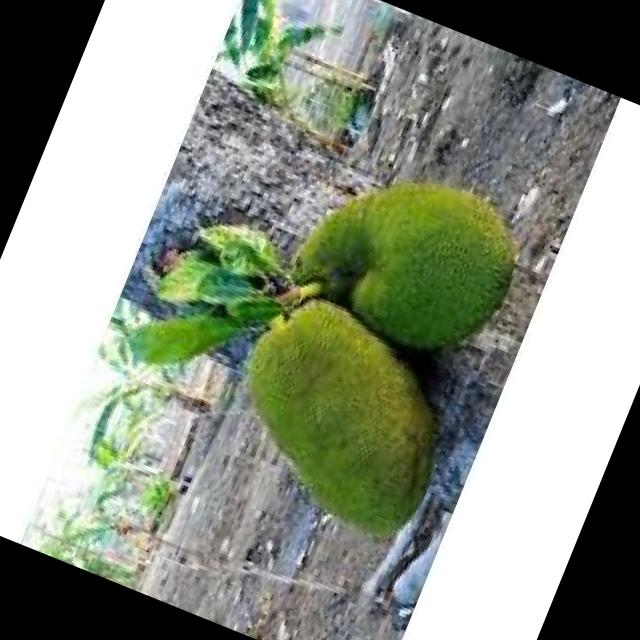Fruit: (184, 262, 501, 576), (255, 117, 562, 406)
